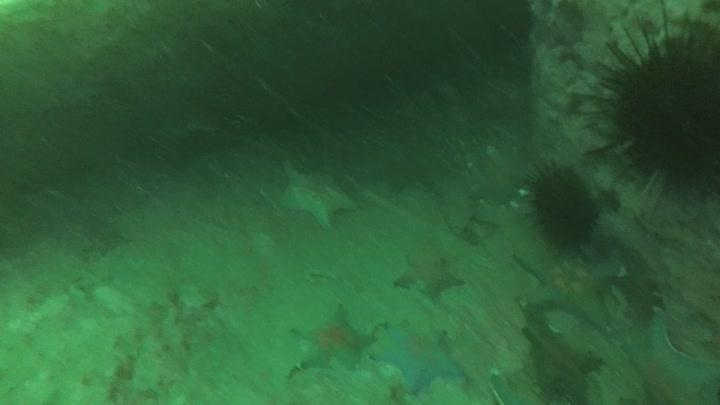echinus: (589, 17, 719, 200), (522, 161, 603, 252)
starfish: (514, 240, 625, 330), (619, 308, 718, 404), (368, 321, 467, 397), (520, 322, 605, 403), (288, 303, 377, 375), (274, 160, 360, 231), (391, 248, 466, 303), (467, 145, 530, 205)
